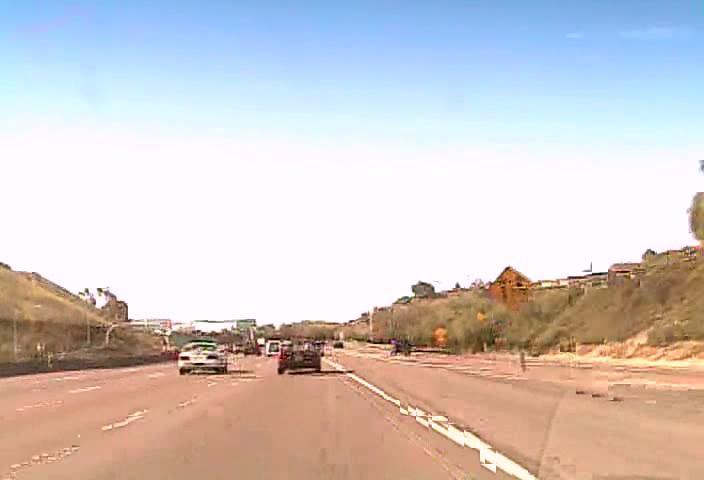addedLane: (485, 265, 536, 312)
